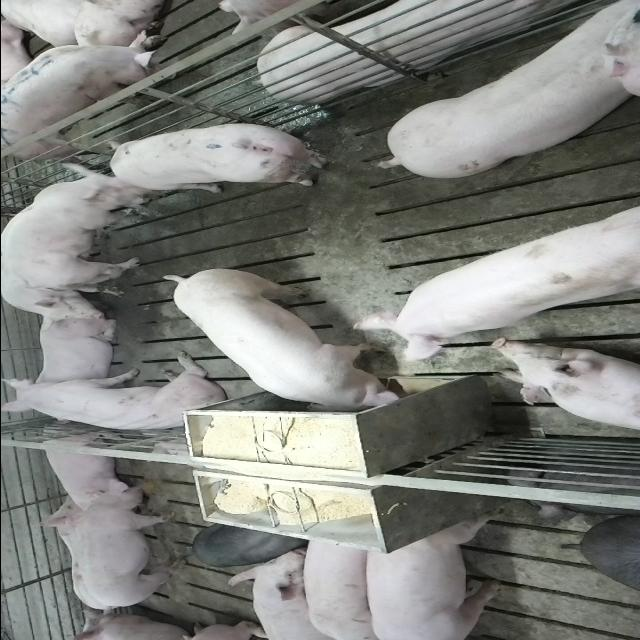Feeding: (349, 191, 640, 366), (162, 272, 408, 422)
Sitting: (4, 356, 228, 436)
Standing: (373, 6, 635, 184), (0, 28, 189, 156), (366, 511, 510, 639), (100, 122, 334, 194), (78, 484, 186, 613), (226, 551, 354, 640), (302, 532, 379, 640)
Sternal_lying: (238, 0, 594, 101), (490, 342, 640, 438), (34, 299, 120, 391), (36, 429, 134, 509)
